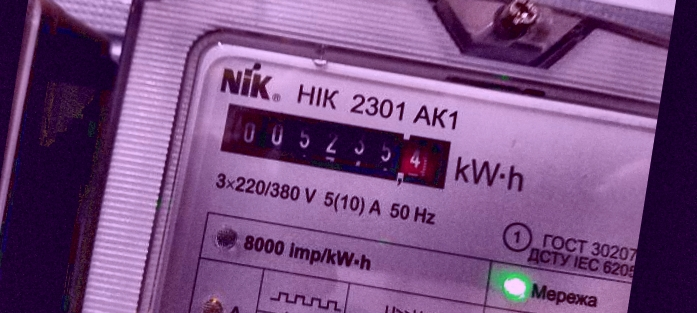0: (238, 117, 258, 146), (267, 120, 285, 147)
2: (322, 127, 339, 154)
3: (350, 130, 367, 157)
4: (405, 143, 424, 171)
5: (376, 135, 395, 164), (294, 123, 313, 151)
screen: (208, 93, 464, 199)
